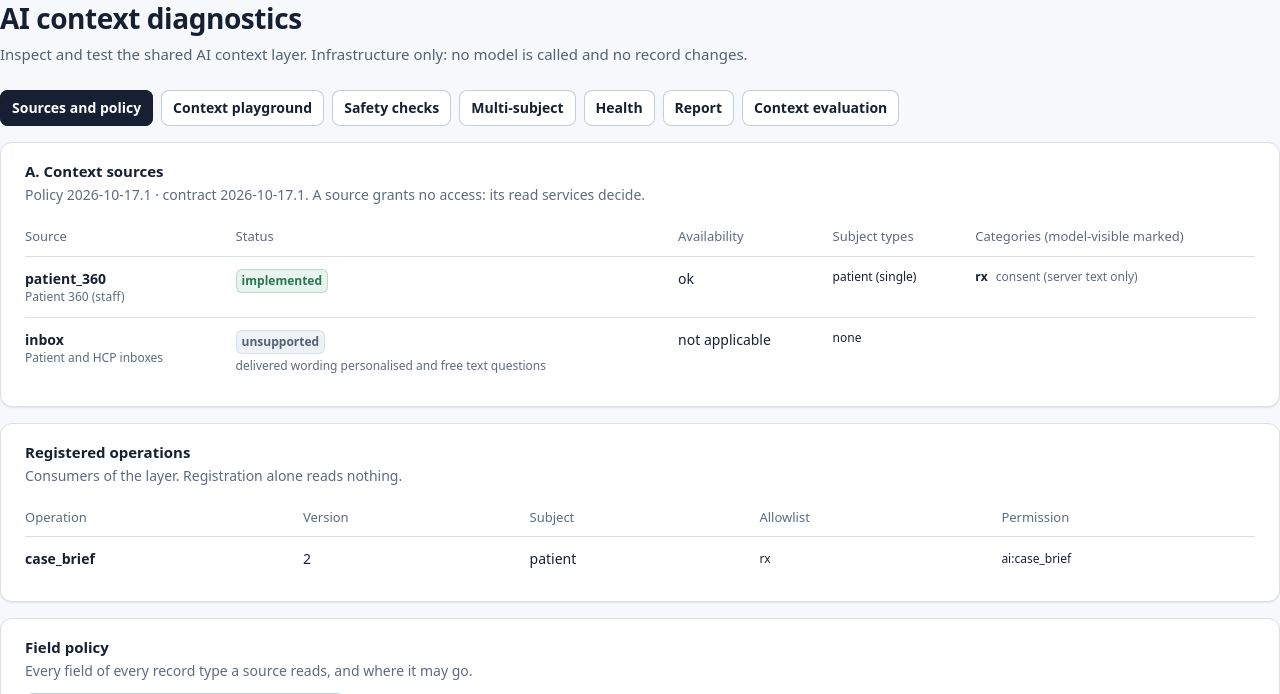
Test: AI context diagnostics › shows denials as check codes without any record content
Click the tab "Context playground" at coordinates (243, 108), box [161,90,324,126]
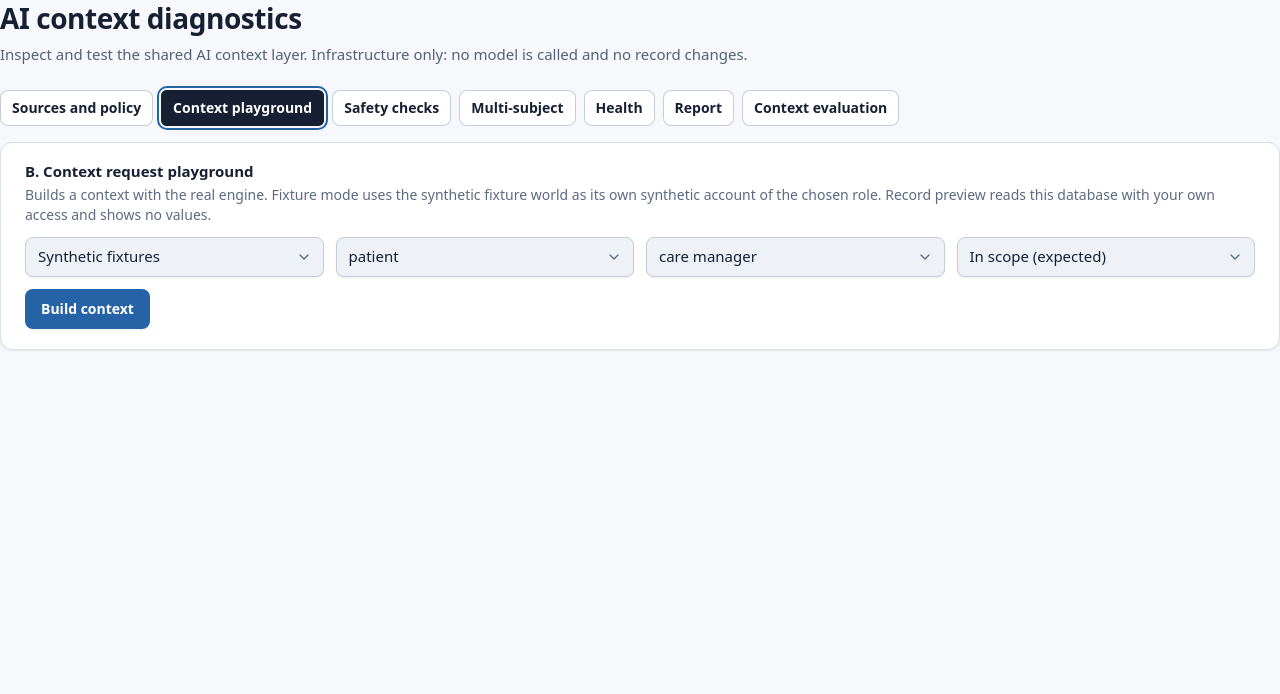
Click the button "Build context" at coordinates (88, 309), box [25,289,150,329]
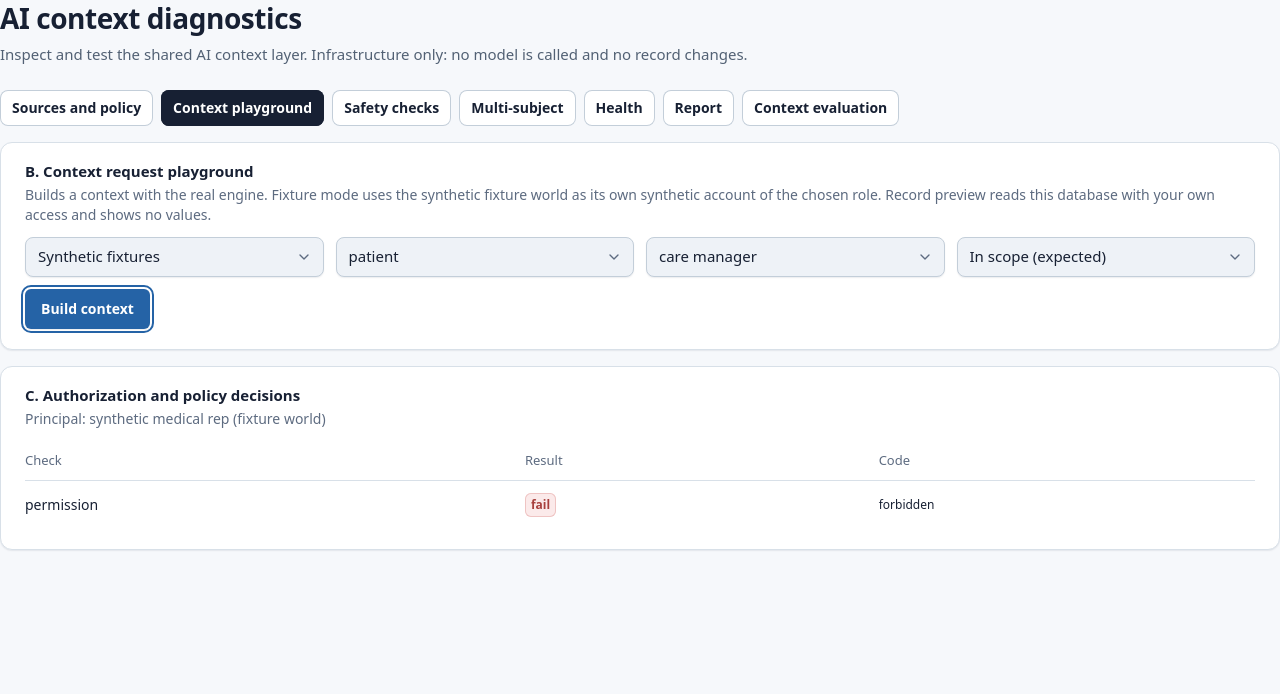
Check: the text "fail" is shown, box [531,495,550,515]
Check: the text "forbidden" is shown, box [867,480,1255,529]
